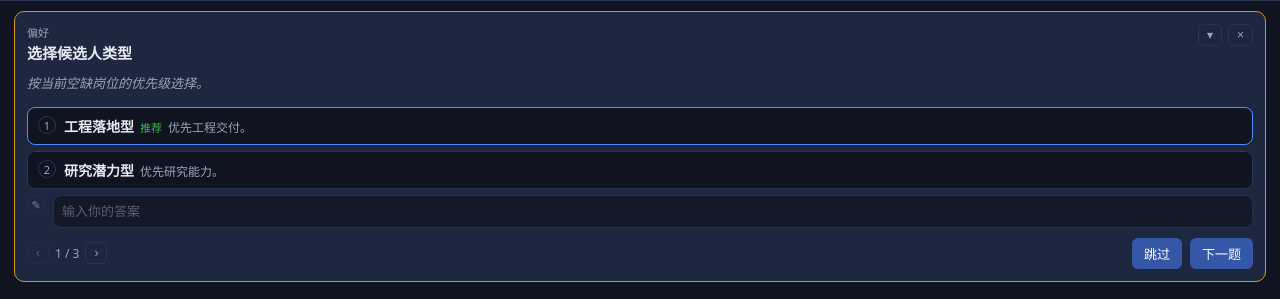
QuestionComposer › keeps IME Enter inside the custom input until composition finishes
Click the radio button labelled "研究潜力型".
click(99, 170)  # box 27,151 -> 1253,189
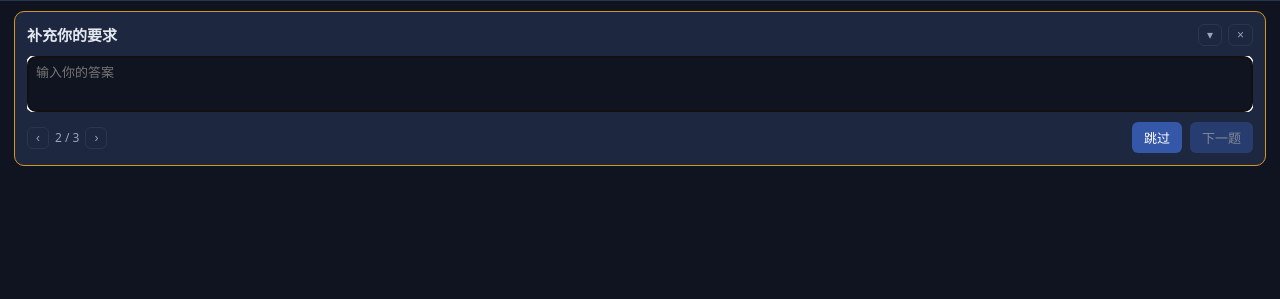
Type "中文输入" into the text box with placeholder "输入你的答案".
click(640, 84); type("中文输入")  # box 27,56 -> 1253,112
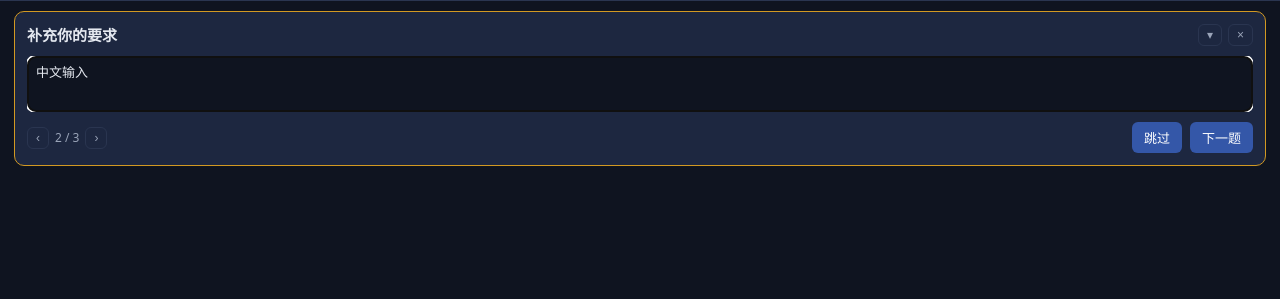
Press Enter in the text box with placeholder "输入你的答案", box 27,56 -> 1253,112
Check: the text "2 / 3" is shown, box 55,129 -> 80,146
Press Enter in the text box with placeholder "输入你的答案", box 27,56 -> 1253,112
Check: the text "2 / 3" is shown, box 55,129 -> 80,146
Press Enter in the text box with placeholder "输入你的答案", box 27,56 -> 1253,112
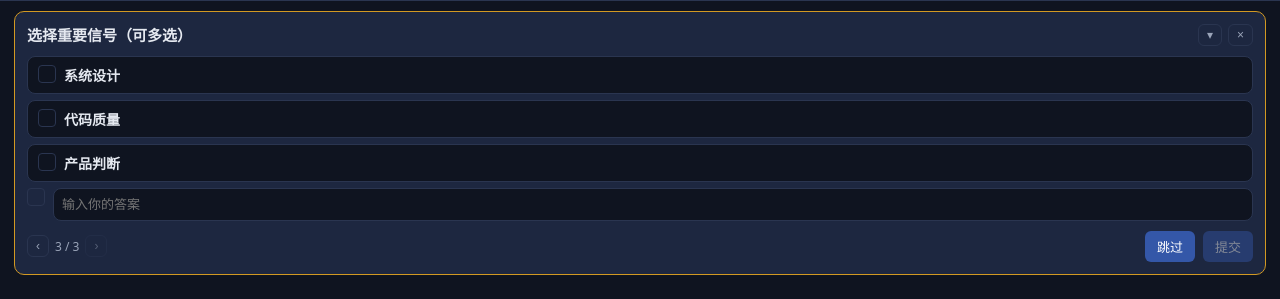
Check: the text "3 / 3" is shown, box 55,238 -> 80,255
